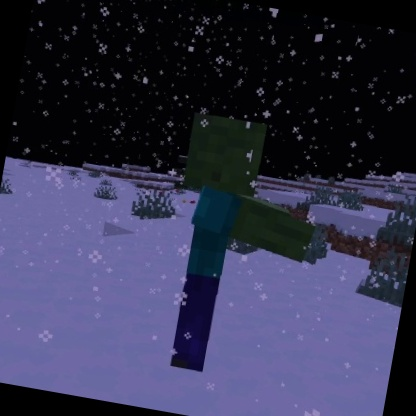zombie: (143, 103, 337, 394)
